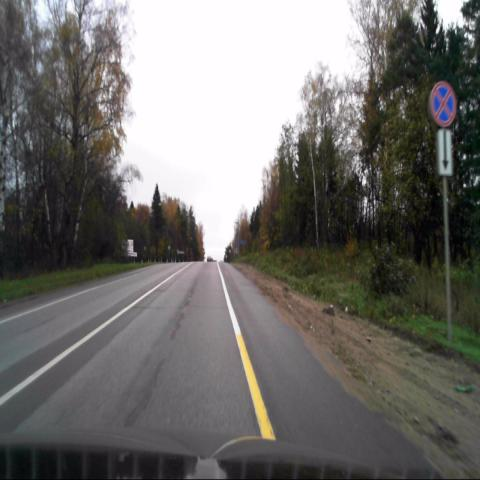8_2_3: (438, 130, 452, 175)
